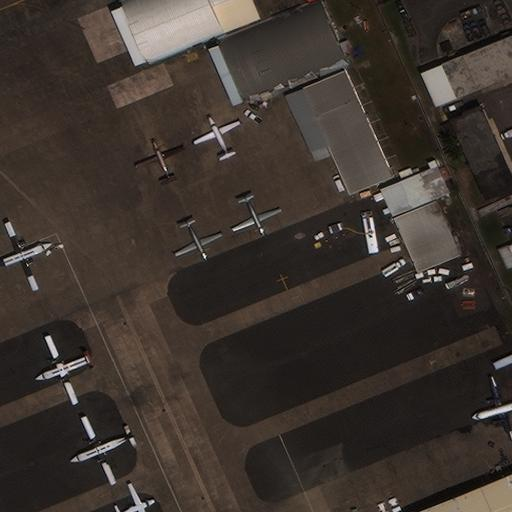Medium Civil Transport: (69, 418, 132, 484), (34, 337, 90, 405), (0, 221, 50, 289), (470, 376, 512, 440), (234, 197, 280, 236), (176, 222, 223, 259), (117, 481, 154, 512)
Small Civil Transport: (134, 140, 180, 182), (193, 117, 237, 158)
